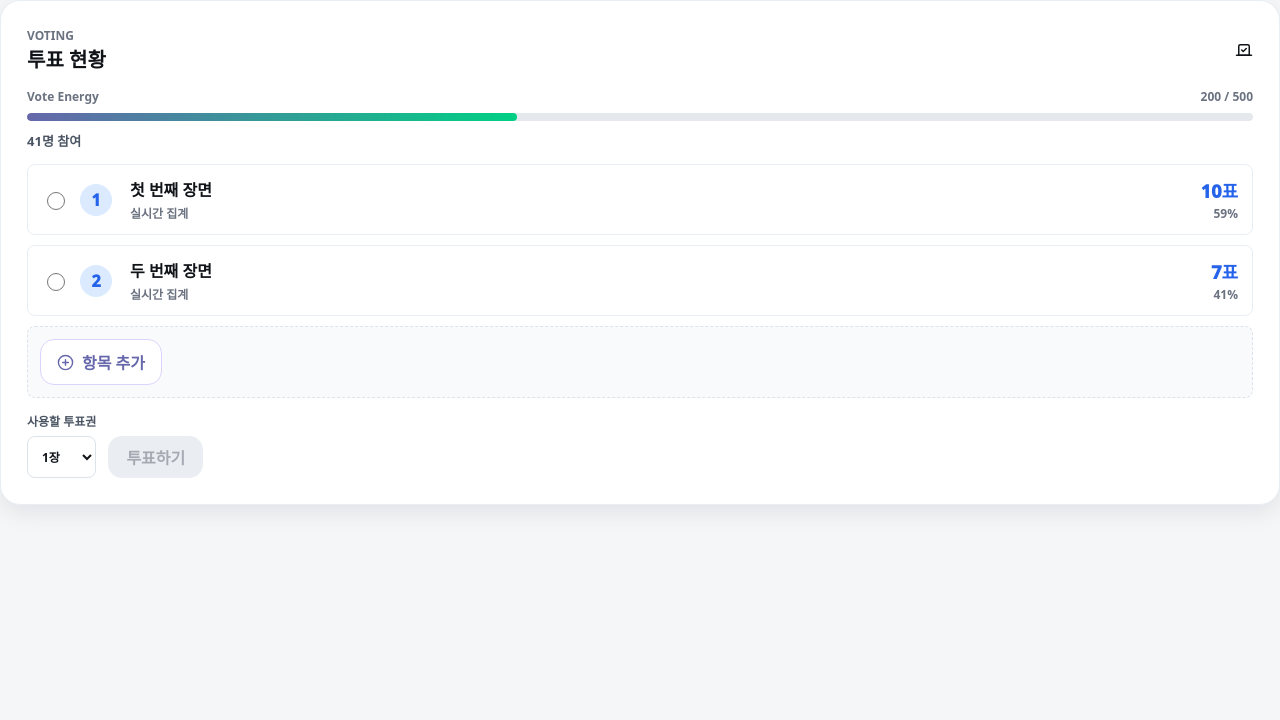
Test: VotePanel › adds an option inline with automatic votes from spent tickets
Click the button "항목 추가" at (101, 362), box 40,339 -> 162,385
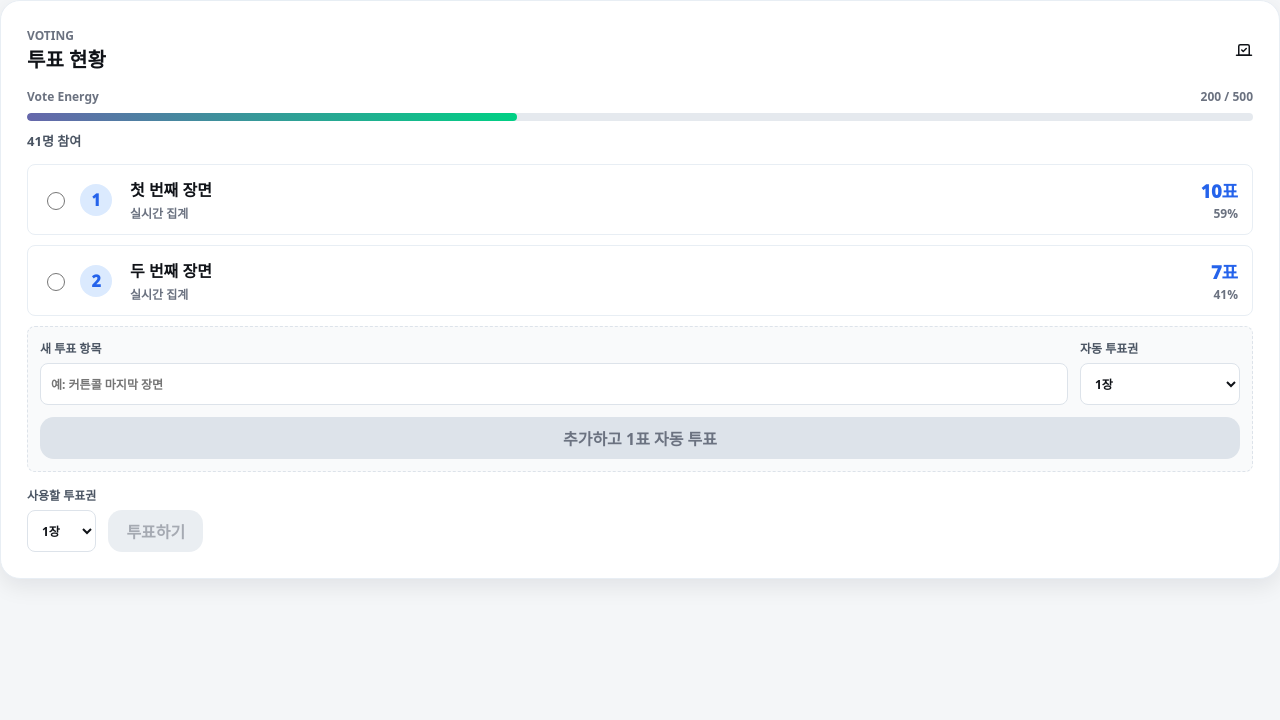
Type "세 번째 장면" into the field labelled "새 투표 항목" at (554, 384), box 40,363 -> 1068,405
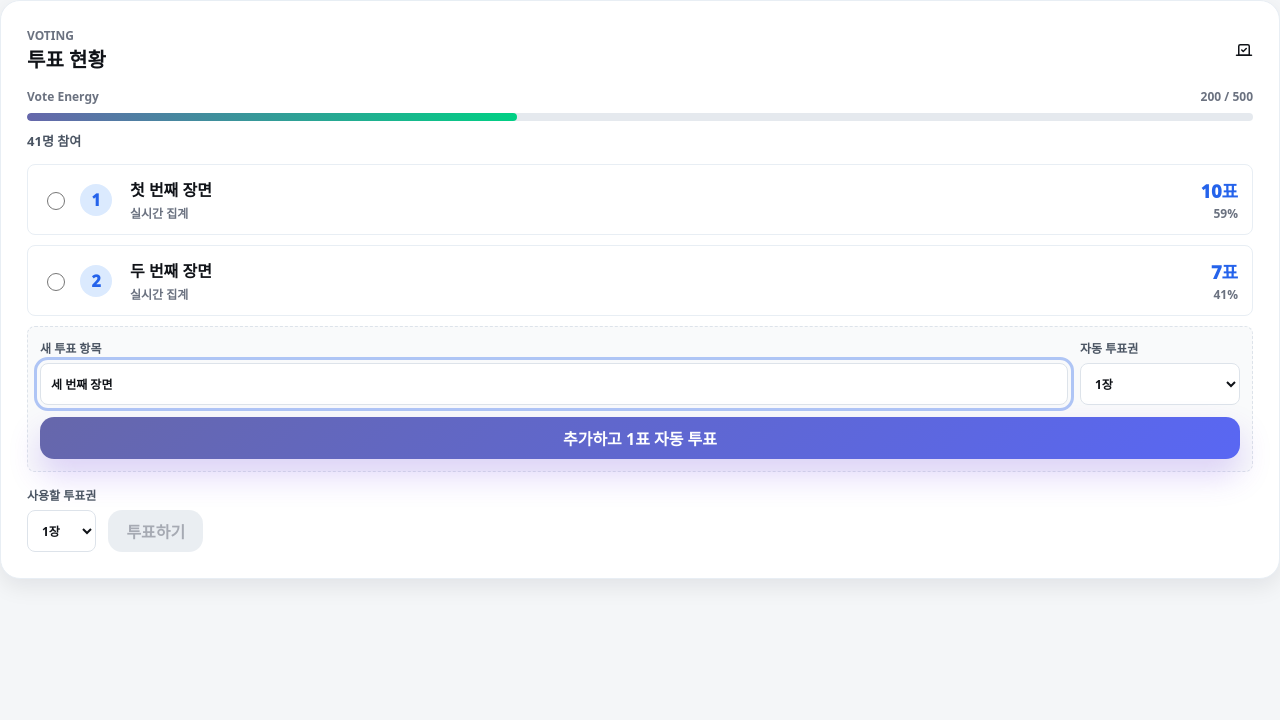
Select "2장" in the dropdown labelled "자동 투표권" at (1160, 384), box 1080,363 -> 1240,405
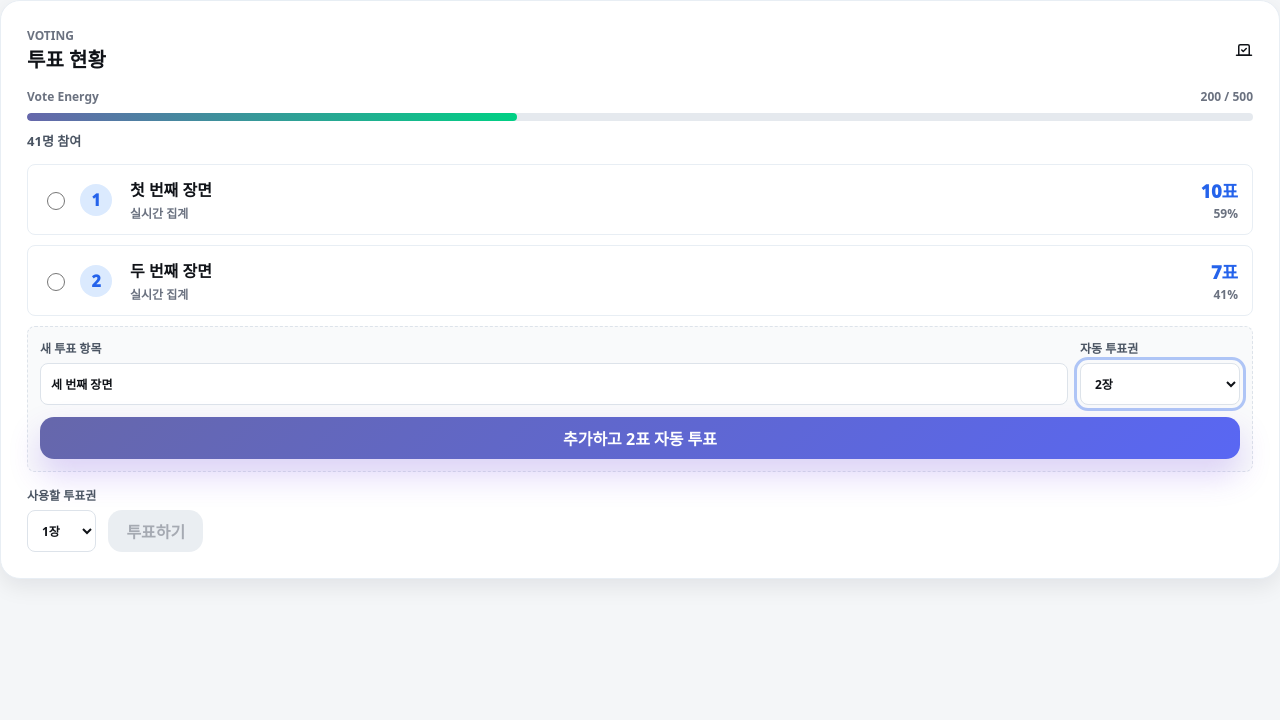
Click the button "추가하고 2표 자동 투표" at (640, 438), box 40,417 -> 1240,459
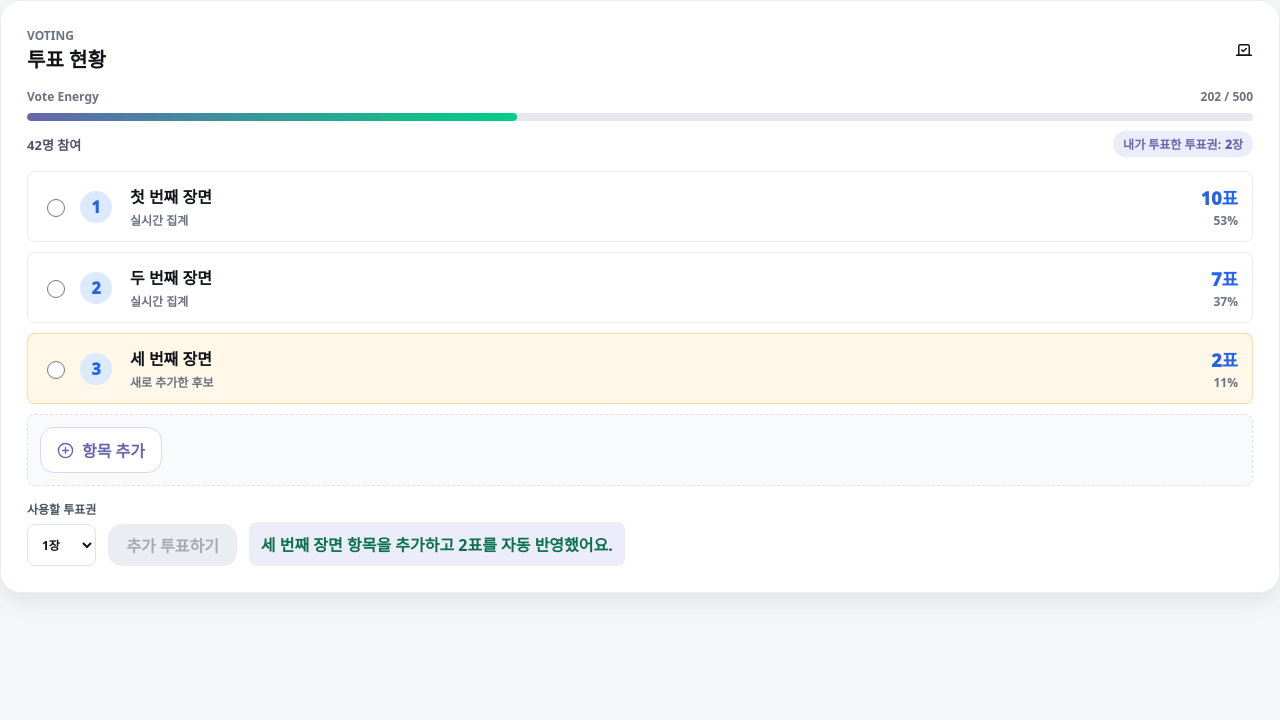
Expected: the text "세 번째 장면" is shown, 130,348 -> 212,370
Expected: the text "2표" is shown, 1211,346 -> 1238,372
Expected: the text "202 / 500" is shown, 1201,88 -> 1253,105
